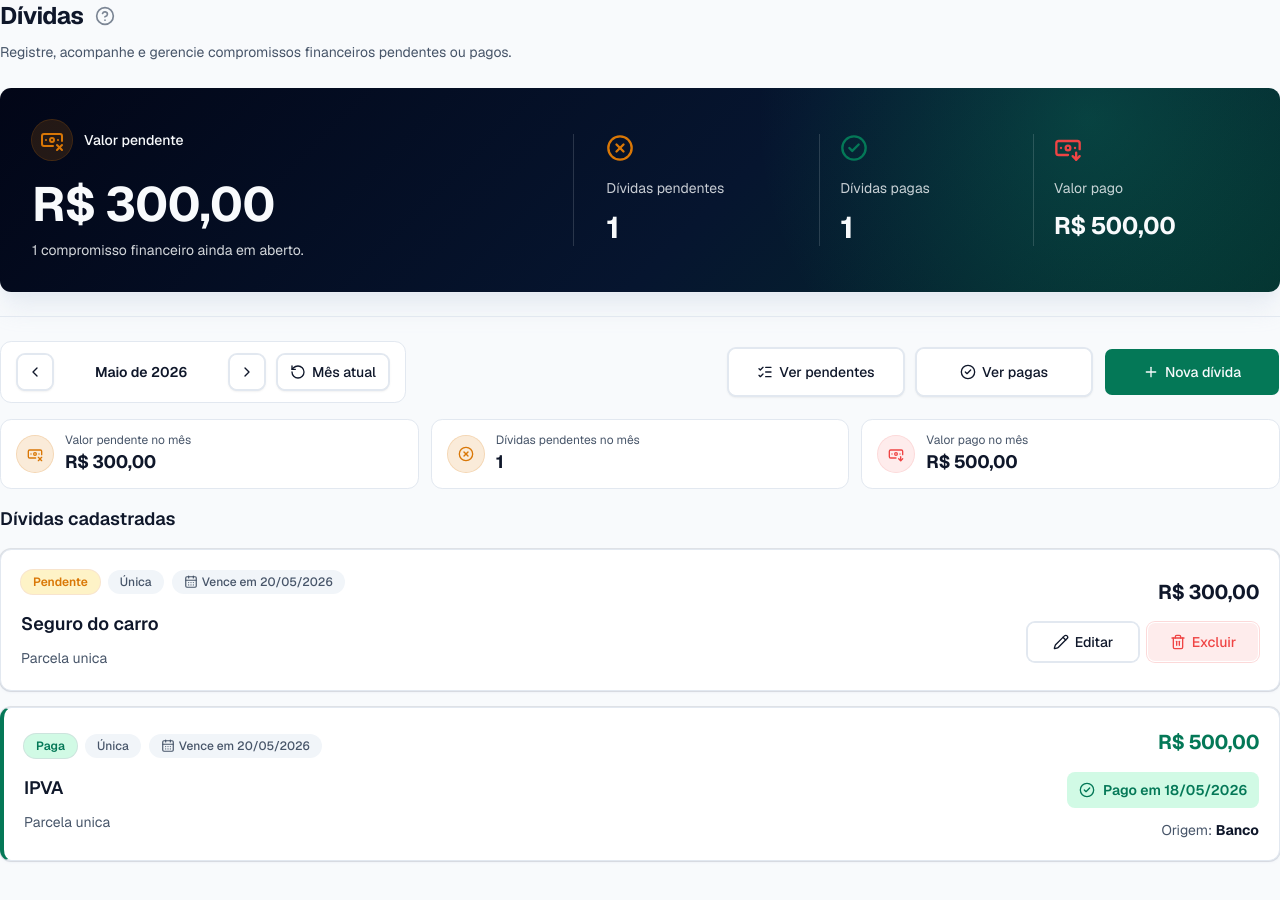
Scenario: DebtsPageContent › should open create debt form
What coordinates should you click on to do the following:
click the button "Nova dívida"
I would click on:
 (1192, 372)
Its box is [1104,348,1279,396].
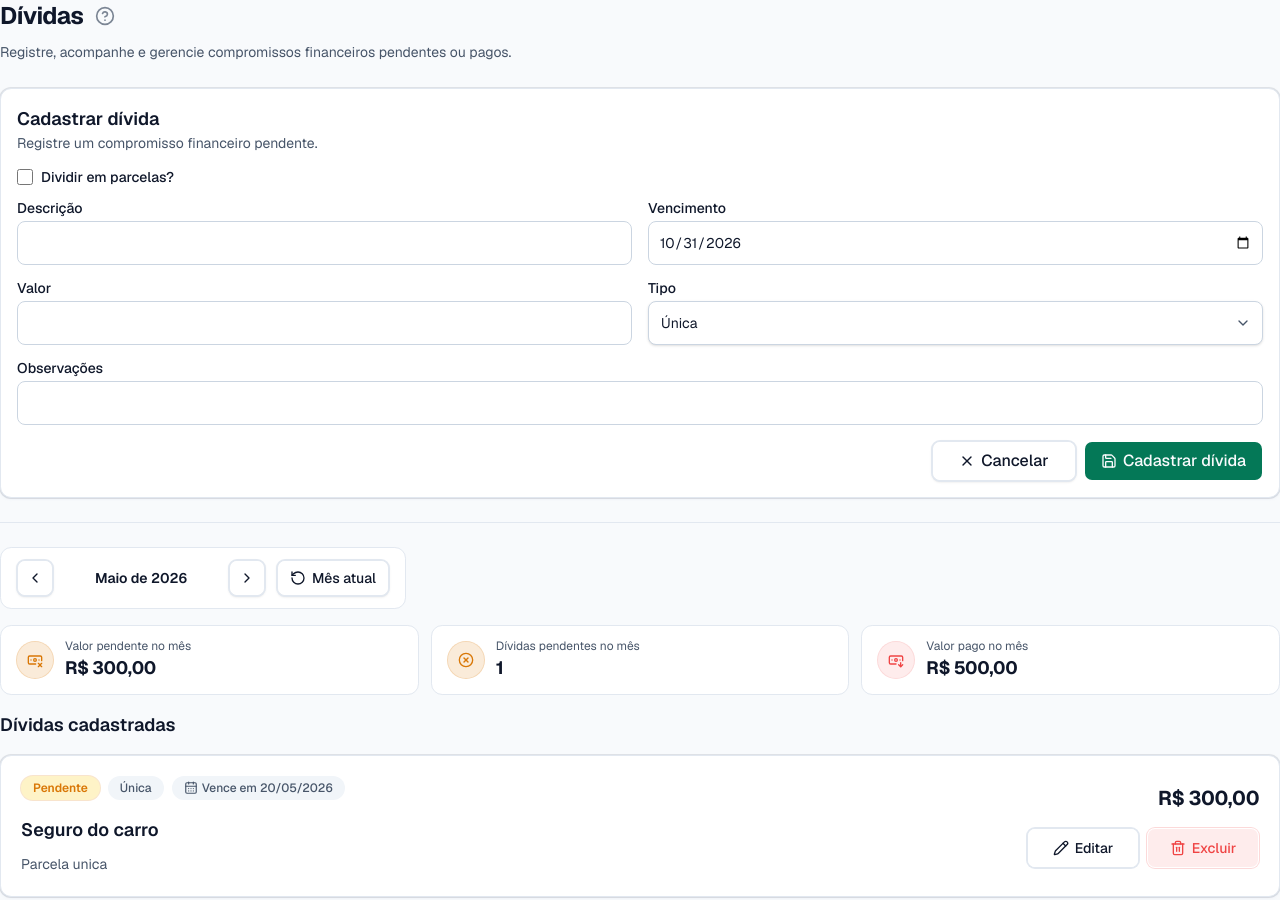
Result: the heading "Cadastrar dívida" is shown at [17,107,159,130]
Result: the dropdown labelled "Tipo" is shown at [648,301,1263,345]
Result: the button "Nova dívida" is gone
